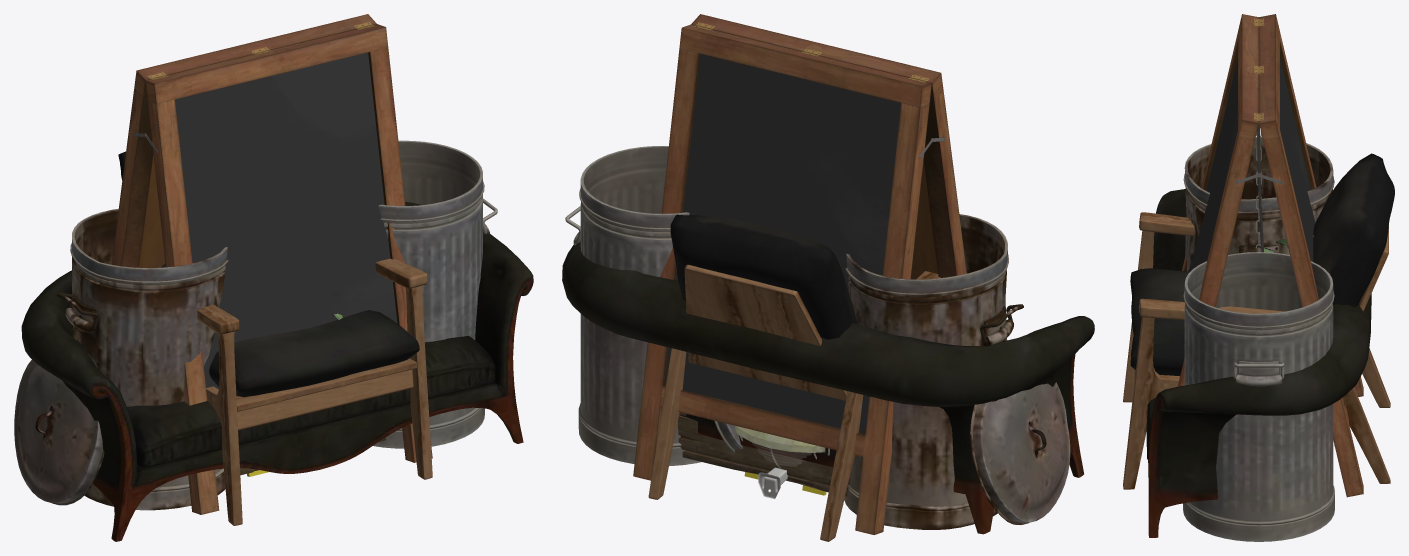
The model's file is props.glb.
3 renders of one model, left to right at view 1: azimuth 30°, elevation 25°; view 2: azimuth 150°, elevation 25°; view 3: azimuth 270°, elevation 25°, orthographic. The views are drawn at different scales.
Visible parts, largest first — view 1: standing_chalkboard_01, sofa_02_Base, modern_arm_chair_01, metal_trash_can_rust, metal_trash_can, sofa_02_Seat, metal_trash_can_rust_lid; view 2: standing_chalkboard_01, sofa_02_Base, modern_arm_chair_01, metal_trash_can_rust, metal_trash_can, metal_trash_can_rust_lid, planter_box_01, hanging_industrial_lamp, security_camera_01; view 3: metal_trash_can, modern_arm_chair_01, standing_chalkboard_01, sofa_02_Base, metal_trash_can_rust, hanging_industrial_lamp.
Part boxes in pixels (box(x1,y1,x2,y2)): standing_chalkboard_01: box(111, 14, 432, 514); sofa_02_Base: box(21, 202, 533, 541); modern_arm_chair_01: box(118, 151, 432, 525); metal_trash_can_rust: box(65, 208, 228, 510); metal_trash_can: box(373, 140, 489, 448); sofa_02_Seat: box(127, 335, 496, 467); metal_trash_can_rust_lid: box(14, 354, 104, 505); standing_chalkboard_01: box(633, 14, 966, 534); sofa_02_Base: box(562, 241, 1094, 534); modern_arm_chair_01: box(648, 214, 940, 541); metal_trash_can_rust: box(844, 214, 1013, 529); metal_trash_can: box(573, 146, 700, 465); metal_trash_can_rust_lid: box(970, 382, 1070, 524); planter_box_01: box(678, 412, 850, 496); hanging_industrial_lamp: box(735, 426, 829, 468); security_camera_01: box(758, 467, 787, 498); metal_trash_can: box(1183, 252, 1334, 541); modern_arm_chair_01: box(1123, 153, 1394, 489); standing_chalkboard_01: box(1177, 14, 1363, 497); sofa_02_Base: box(1148, 189, 1371, 537); metal_trash_can_rust: box(1183, 136, 1334, 271); hanging_industrial_lamp: box(1255, 124, 1263, 252).
Size of the model in its own units: 1.81 by 1.51 by 0.9865.
Materials: 19 (17 with a texture image).
